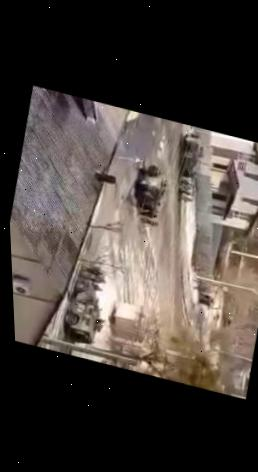armored_car: (58, 274, 110, 348), (167, 128, 215, 183), (131, 161, 173, 212)
person: (79, 260, 105, 278), (171, 184, 198, 200), (135, 206, 162, 220), (138, 213, 162, 227), (176, 191, 196, 207), (91, 274, 109, 286), (92, 282, 106, 295)
